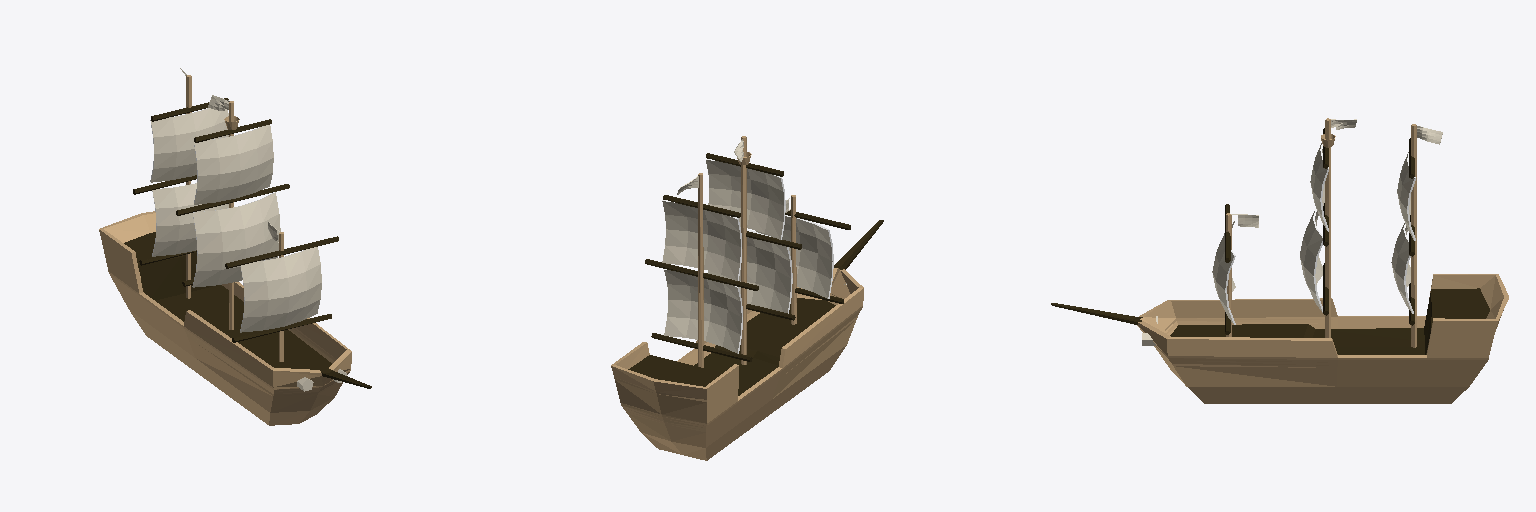
File: Ship1.obj
3 views of the same model, side by side, from view 1: azimuth 30°, elevation 25°; view 2: azimuth 150°, elevation 25°; view 3: azimuth 270°, elevation 25° (orthographic).
Visible parts, largest first — view 1: Ship1; view 2: Ship1; view 3: Ship1.
Part boxes in pixels (x1,y1,x2,y2): Ship1: (99, 68, 371, 425); Ship1: (611, 136, 883, 460); Ship1: (1051, 118, 1508, 403).
Size of the model in its own units: 76.67 by 179 by 273.